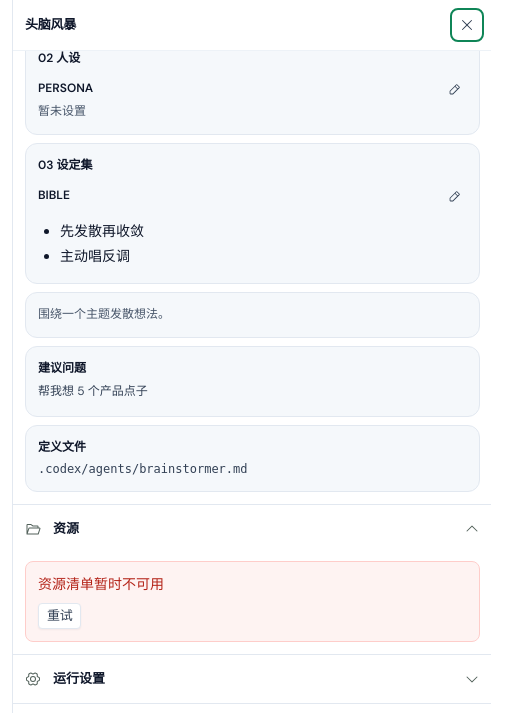
Test: ConfigPanel 三上下文卡片 › 资源清单失败时保留基本信息并提供局部重试
(page scrolled)
Click the button "重试" at (60, 616), box [38,602,82,628]
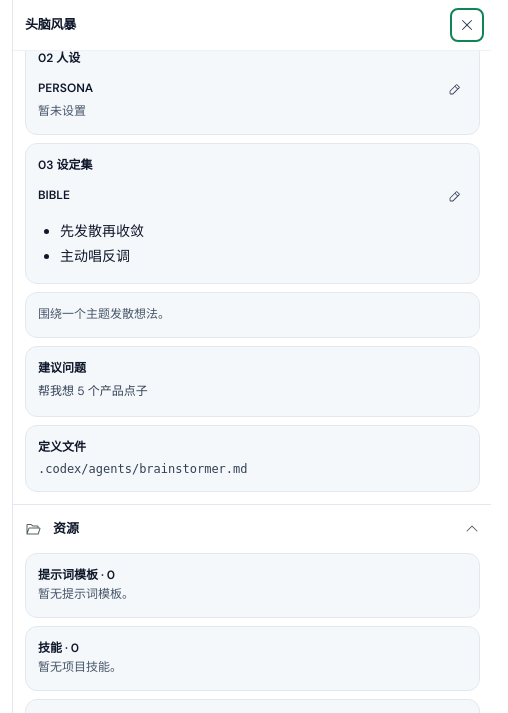
Expected: the text "暂无提示词模板。" is shown, [38,586,134,602]
